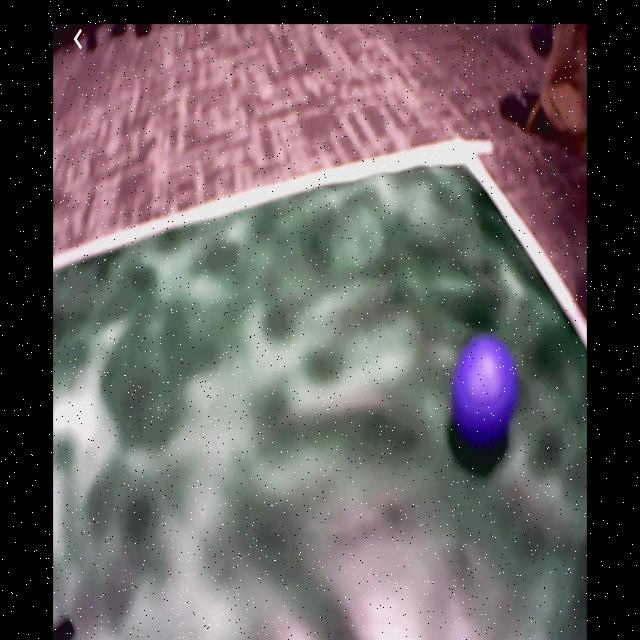ball: (451, 335, 519, 445)
